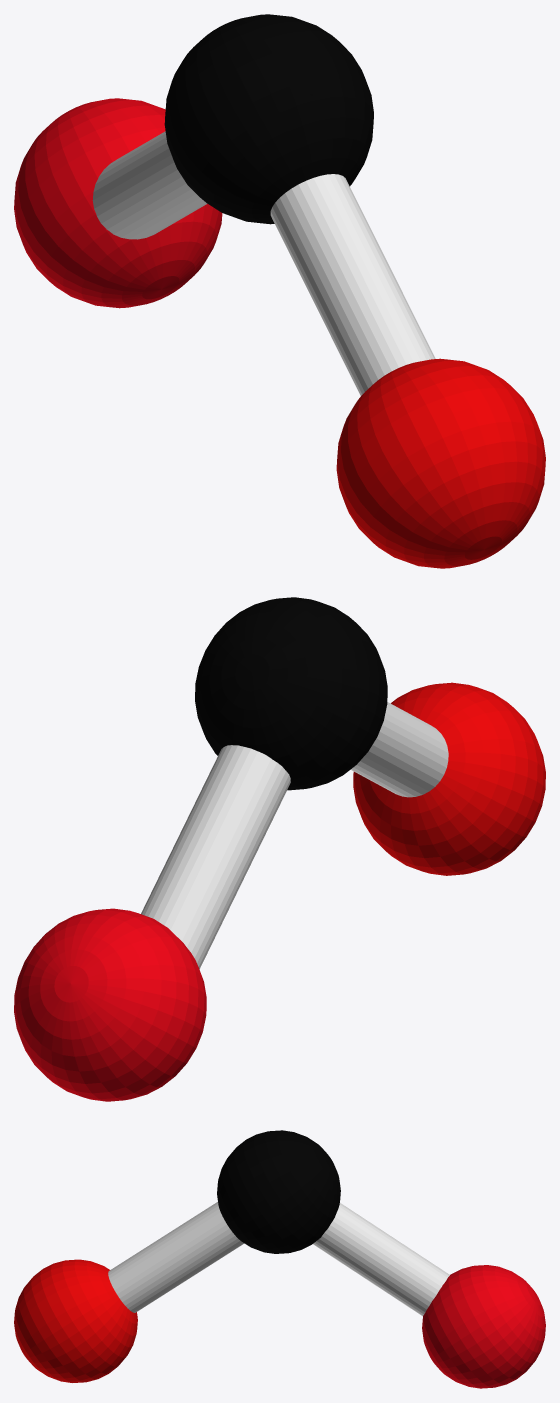
Rendered from common1.fbx.
3 renders of one model, top to bottom at view 1: azimuth 30°, elevation 25°; view 2: azimuth 150°, elevation 25°; view 3: azimuth 270°, elevation 25°, orthographic. The views are drawn at different scales.
Parts seen in each view (by area): view 1: Oxygen1; view 2: Oxygen1; view 3: Oxygen1.
Part boxes in pixels (box(x1,y1,x2,y2)): Oxygen1: box(14, 14, 545, 568); Oxygen1: box(14, 597, 545, 1101); Oxygen1: box(14, 1130, 545, 1388).
Size of the model in its own units: 113 by 215 by 429.
